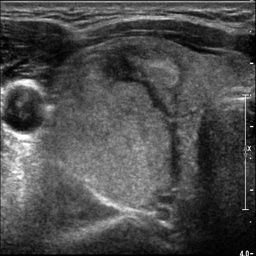mass: (57, 50, 178, 206)
